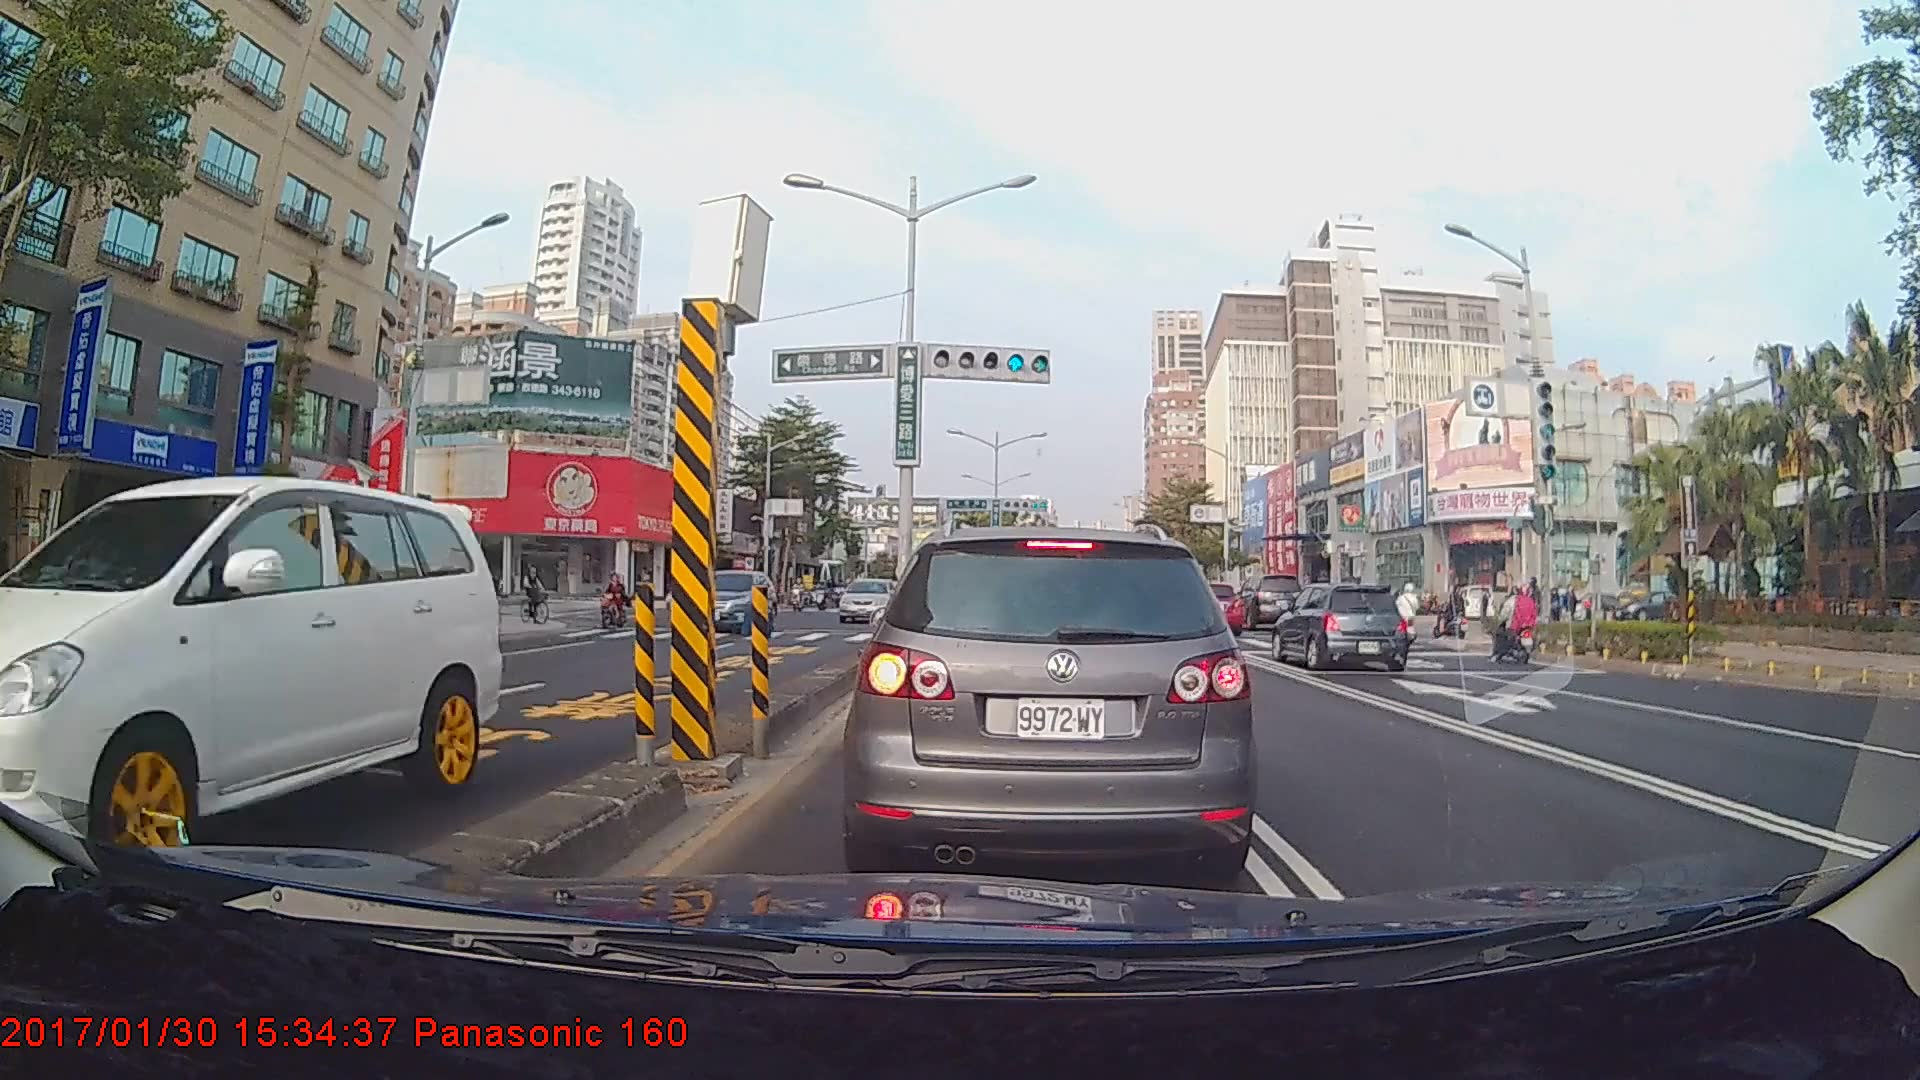rider: (1485, 582, 1548, 668), (595, 566, 632, 636), (1436, 582, 1473, 646)
vehicle: (0, 473, 499, 856), (853, 521, 1251, 874), (1268, 582, 1409, 671), (679, 569, 775, 634), (1231, 570, 1302, 629), (1176, 581, 1245, 636), (836, 576, 897, 621)
